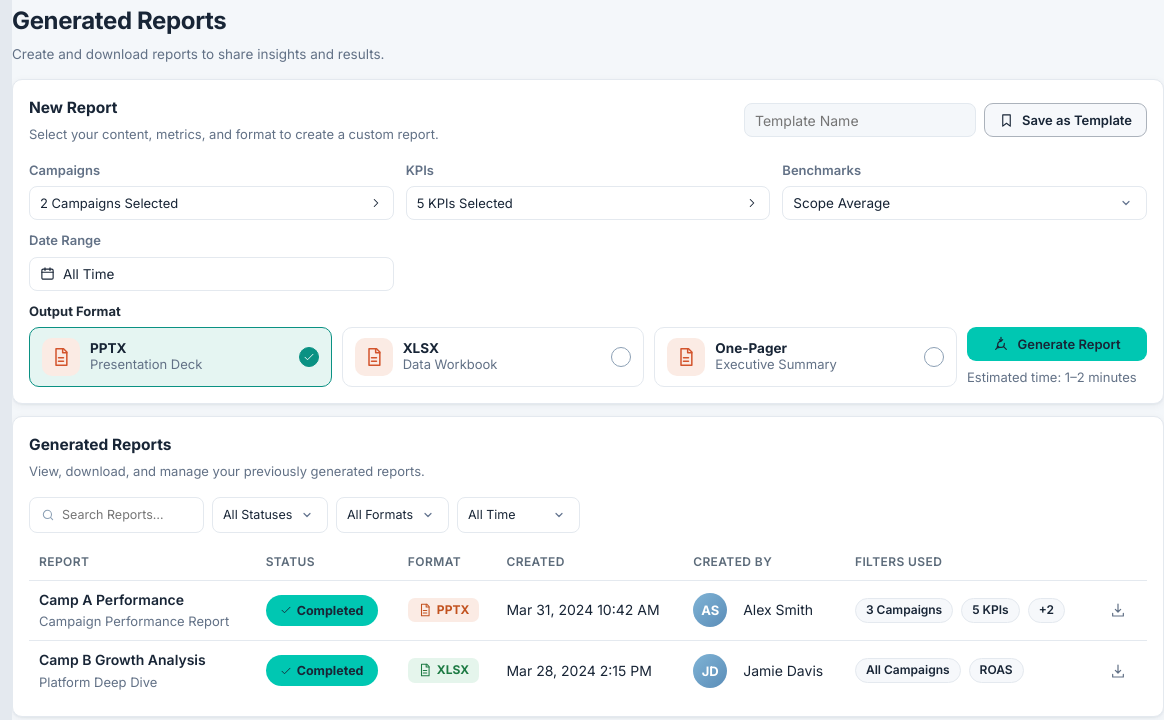
it: ReportsPage › filters history by time window
The width and height of the screenshot is (1164, 720).
Expected: the text "Camp A Performance" is shown, [39,591,184,608]
Demo rows are stamped Mar 2024: a 7-day window hides them all.
Select "Last 7 Days" in the dropdown named "Filter By Time" at (518,515), box [457,497,580,533]
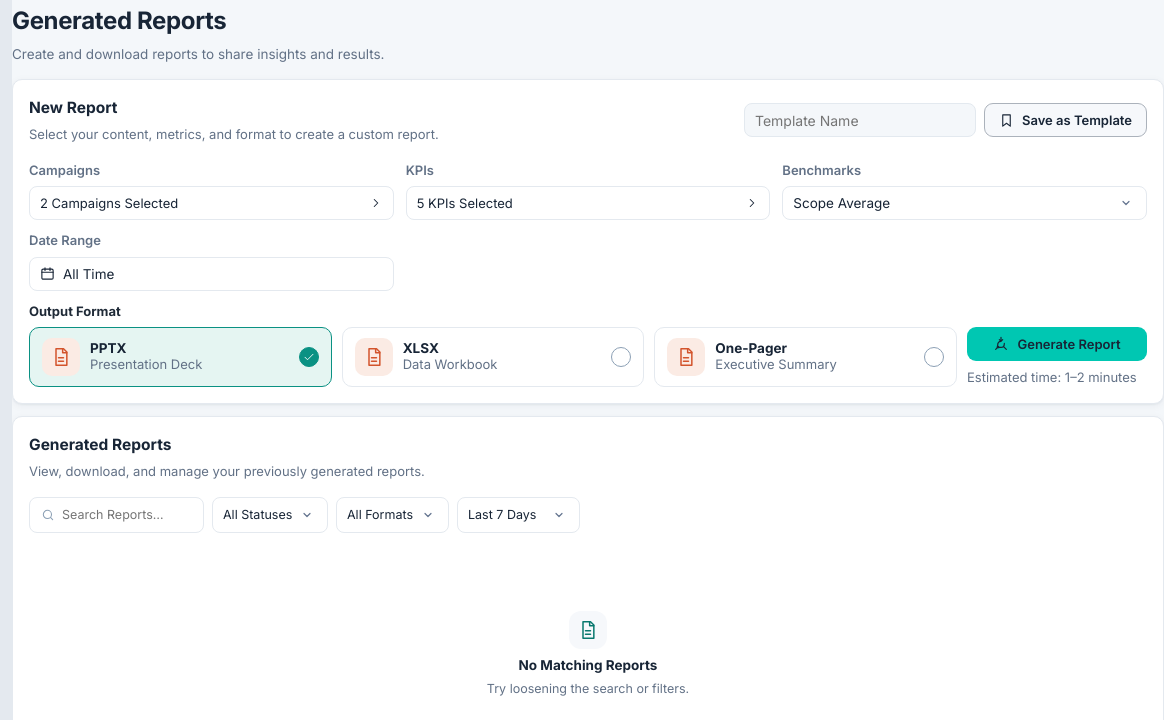
Expected: the text "No Matching Reports" is shown, [519,656,657,676]
Select "All Time" in the dropdown named "Filter By Time" at (518,515), box [457,497,580,533]
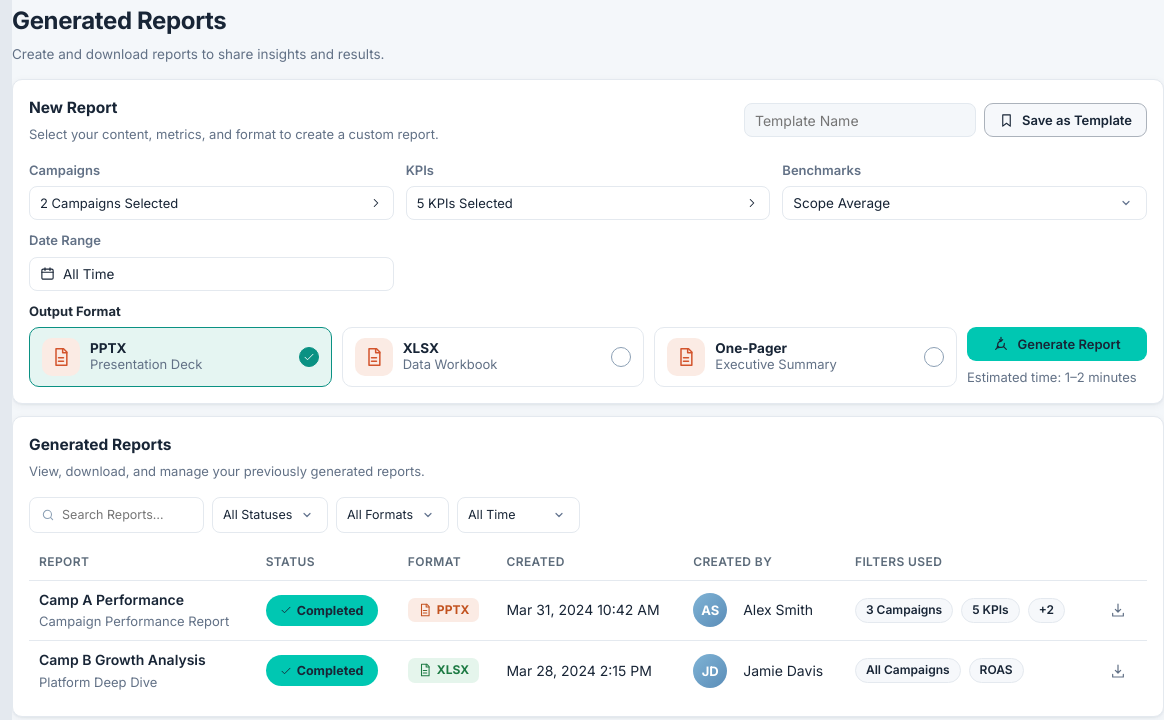
Expected: the text "Camp A Performance" is shown, [39,591,184,608]
